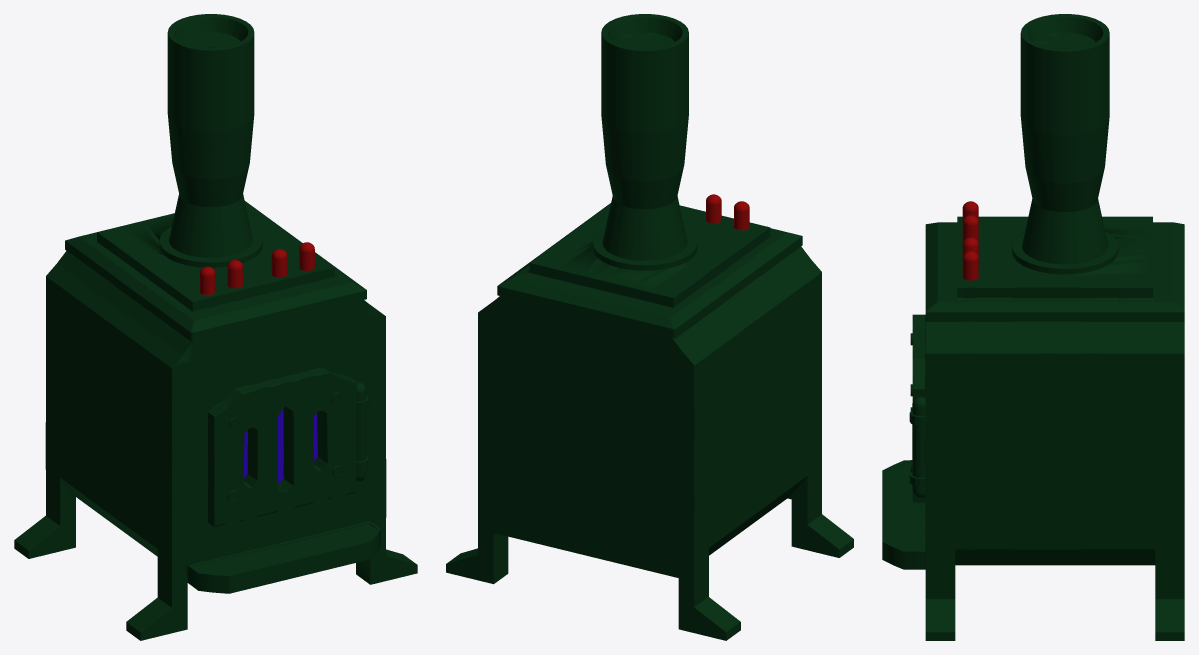
Rendered from Furnace_LOW.fbx.
The picture shows the model from 3 angles, left to right: view 1: azimuth 30°, elevation 25°; view 2: azimuth 150°, elevation 25°; view 3: azimuth 270°, elevation 25°; orthographic projection. The views are drawn at different scales.
Parts seen in each view (by area): view 1: Furnace_LOW; view 2: Furnace_LOW; view 3: Furnace_LOW.
Boxes of the visible parts, bbox=[...] form: Furnace_LOW: bbox=[14, 14, 417, 640]; Furnace_LOW: bbox=[446, 14, 853, 640]; Furnace_LOW: bbox=[882, 14, 1184, 640].
Bounding box in the file's own units: 10.75 × 19.47 × 9.9.
